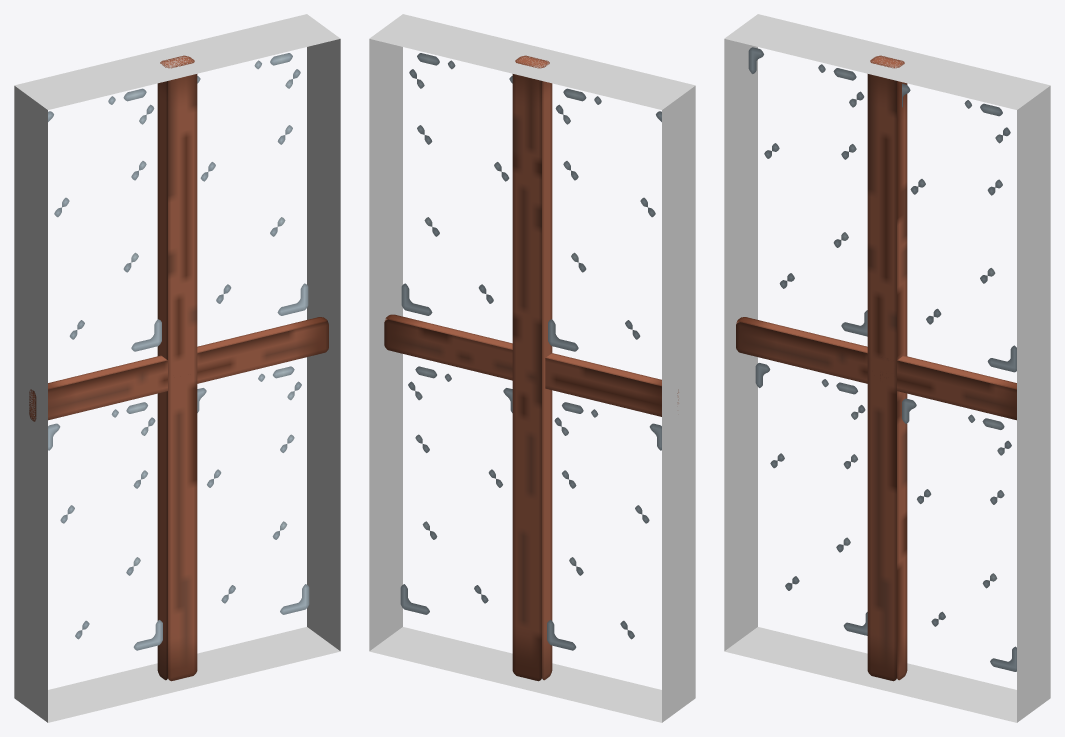
Rendered from Window.fbx.
3 renders of one model, left to right at view 1: azimuth 30°, elevation 25°; view 2: azimuth 150°, elevation 25°; view 3: azimuth 330°, elevation 25°, orthographic.
Parts seen in each view (by area): view 1: windowwall, wood1, wood2, glass1, glass4, glass3, glass2; view 2: windowwall, wood1, wood2, glass1, glass4, glass3, glass2; view 3: windowwall, wood1, wood2, glass4, glass2, glass3, glass1.
Boxes of the visible parts, x1,y1,x2,y2 form: windowwall: (14,14,340,722); wood1: (157,55,197,681); wood2: (29,317,328,421); glass1: (48,402,162,650); glass4: (48,88,161,351); glass3: (197,53,308,315); glass2: (197,366,309,614); windowwall: (369,14,695,722); wood1: (512,55,552,681); wood2: (384,314,678,416); glass1: (547,402,661,650); glass4: (548,88,661,351); glass3: (401,53,512,315); glass2: (400,366,512,614); windowwall: (724,14,1050,722); wood1: (867,55,907,681); wood2: (736,317,1016,420); glass4: (748,47,867,336); glass2: (902,398,1016,671); glass3: (902,83,1016,372); glass1: (755,363,867,635).
Bounding box in the file's own units: 62.5 × 125 × 12.5.
